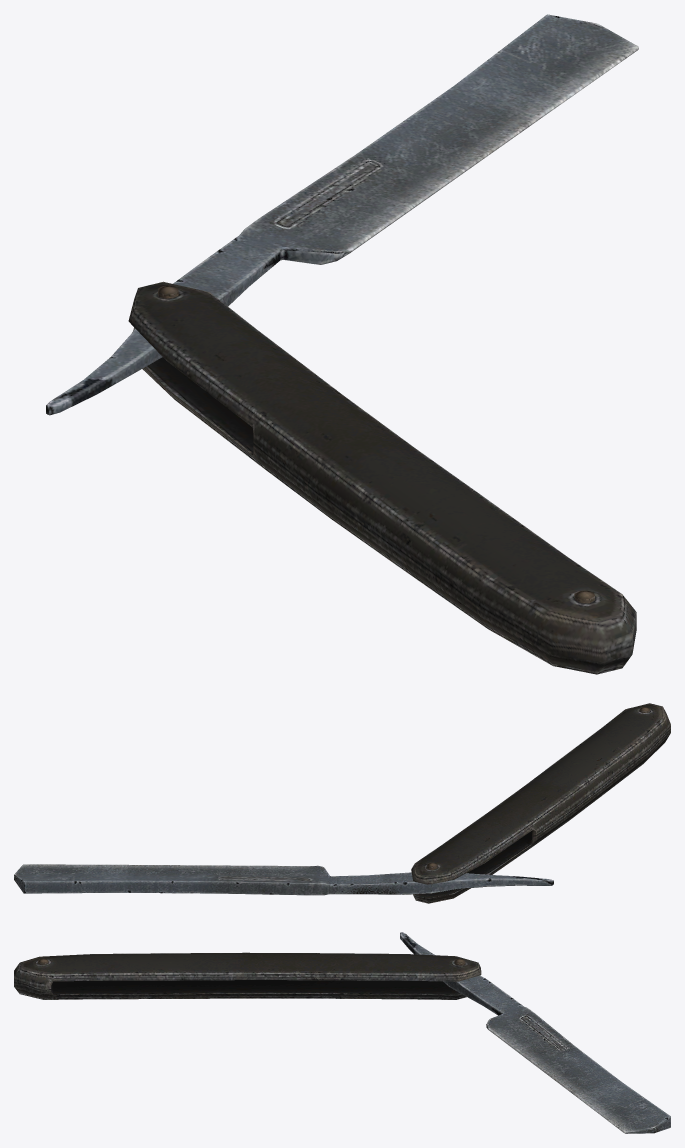
Rendered from razor_knife_open.dae.
The picture shows the model from 3 angles, top to bottom: view 1: azimuth 30°, elevation 25°; view 2: azimuth 150°, elevation 25°; view 3: azimuth 270°, elevation 25°; orthographic projection. The views are drawn at different scales.
Parts seen in each view (by area): view 1: handle, blade; view 2: handle, blade; view 3: handle, blade.
Part boxes in pixels (left/top/right/bottom): handle: left=128, top=281, right=636, bottom=674; blade: left=46, top=14, right=638, bottom=415; handle: left=411, top=703, right=670, bottom=903; blade: left=14, top=864, right=553, bottom=895; handle: left=14, top=952, right=481, bottom=999; blade: left=400, top=932, right=670, bottom=1133.
Size of the model in its own units: 0.3233 by 0.0278 by 0.4514.
